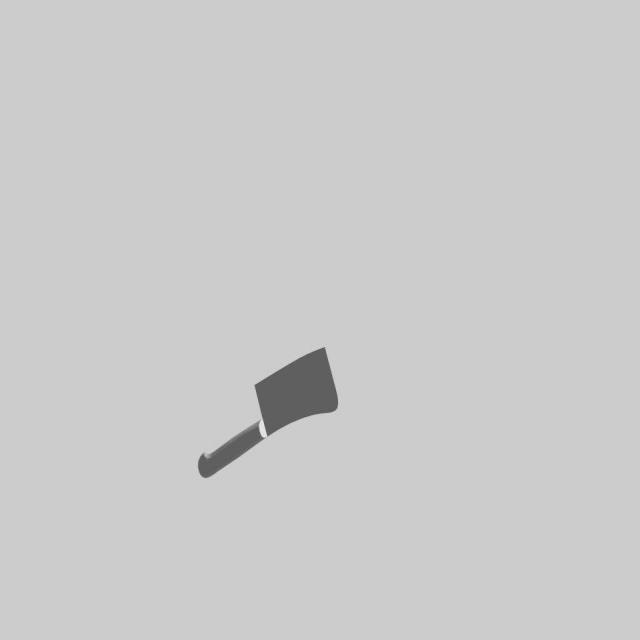knife: (198, 418, 267, 478)
